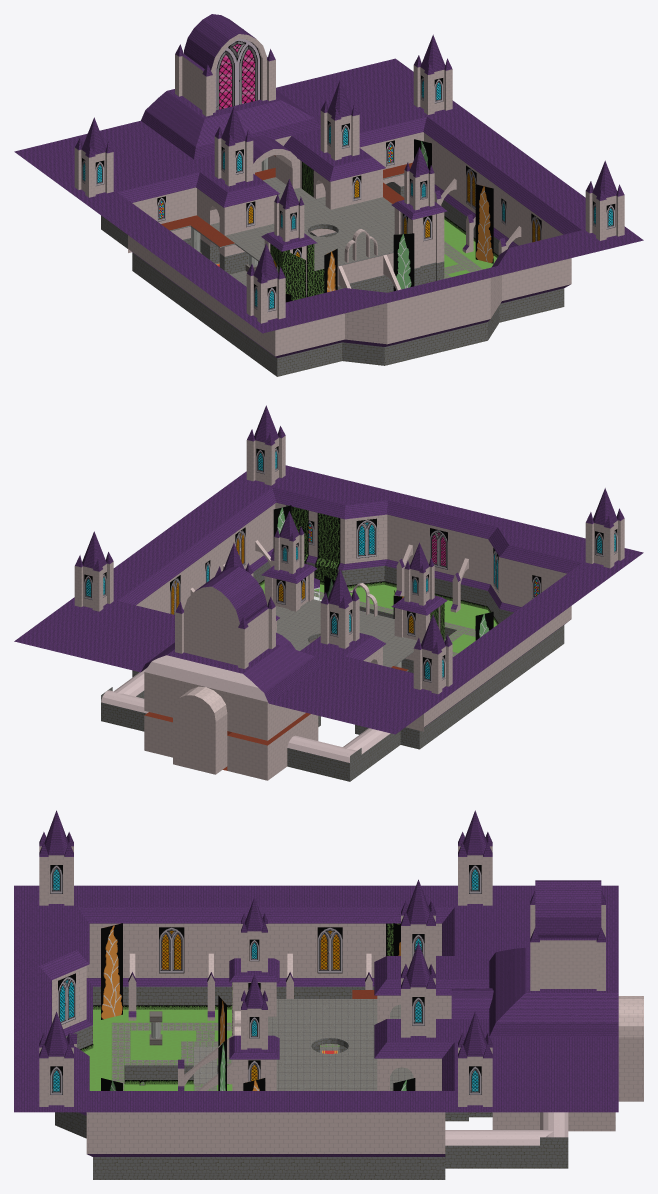
File: weddingquake.min.glb
3 views of the same model, one above another, from view 1: azimuth 30°, elevation 25°; view 2: azimuth 150°, elevation 25°; view 3: azimuth 270°, elevation 25° (orthographic). The views are drawn at different scales.
Parts seen in each view (by area): view 1: 1511, 81394, 64800, 852, 807, 715, spire.003, spire.004, spire, spire.001, spire.002, spire.005 (+35 smaller); view 2: 1511, 81394, 852, 807, 64800, 64574, 715, 64800.002, spire.002, spire, spire.005, spire.003 (+31 smaller); view 3: 1511, 807, 834, 64800, 81394, 722, 73475, 715, 63886, spire, spire.003, spire.001 (+36 smaller).
Boxes of the visible parts, bbox=[...] form: 1511: bbox=[14, 58, 643, 333]; 81394: bbox=[175, 14, 275, 116]; 64800: bbox=[141, 89, 320, 159]; 852: bbox=[387, 278, 490, 344]; 807: bbox=[424, 133, 563, 245]; 715: bbox=[132, 252, 277, 376]; spire.003: bbox=[585, 160, 624, 240]; spire.004: bbox=[320, 80, 359, 160]; spire: bbox=[413, 34, 452, 114]; spire.001: bbox=[74, 117, 113, 197]; spire.002: bbox=[246, 243, 285, 323]; spire.005: bbox=[214, 106, 253, 186]; 1511: bbox=[14, 465, 643, 734]; 81394: bbox=[175, 566, 275, 668]; 852: bbox=[387, 514, 490, 584]; 807: bbox=[136, 503, 275, 613]; 64800: bbox=[141, 642, 321, 703]; 64574: bbox=[173, 695, 215, 774]; 715: bbox=[419, 625, 564, 748]; 64800.002: bbox=[144, 655, 267, 701]; spire.002: bbox=[585, 488, 624, 568]; spire: bbox=[74, 531, 113, 611]; spire.005: bbox=[320, 568, 359, 648]; spire.003: bbox=[246, 405, 285, 485]; 1511: bbox=[14, 885, 618, 1112]; 807: bbox=[86, 1112, 445, 1153]; 834: bbox=[86, 923, 441, 977]; 64800: bbox=[489, 947, 618, 1036]; 81394: bbox=[530, 880, 605, 990]; 722: bbox=[93, 1157, 445, 1179]; 73475: bbox=[77, 907, 385, 919]; 715: bbox=[93, 986, 374, 1008]; 63886: bbox=[445, 1145, 568, 1168]; spire: bbox=[458, 1012, 492, 1106]; spire.003: bbox=[39, 1012, 73, 1106]; spire.001: bbox=[458, 810, 492, 905].
Bounding box in the file's own units: 27.2 × 12.96 × 31.96.
Materials: 44 (44 with a texture image).
